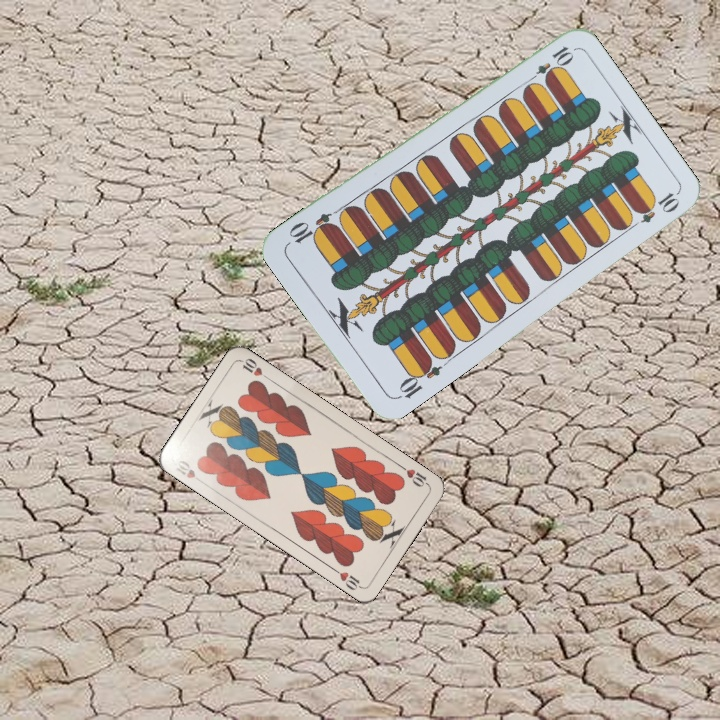E10: (393, 354, 444, 402), (523, 42, 576, 87)
H10: (395, 461, 432, 490), (172, 456, 206, 486)
